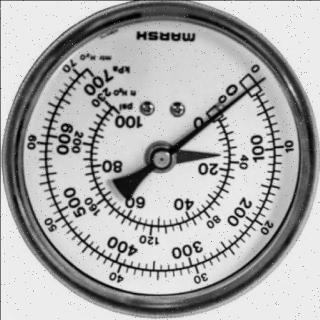gauge: (0, 0, 320, 320), (223, 61, 269, 105), (65, 52, 108, 91), (150, 143, 172, 171), (250, 73, 269, 91), (206, 148, 224, 162)
